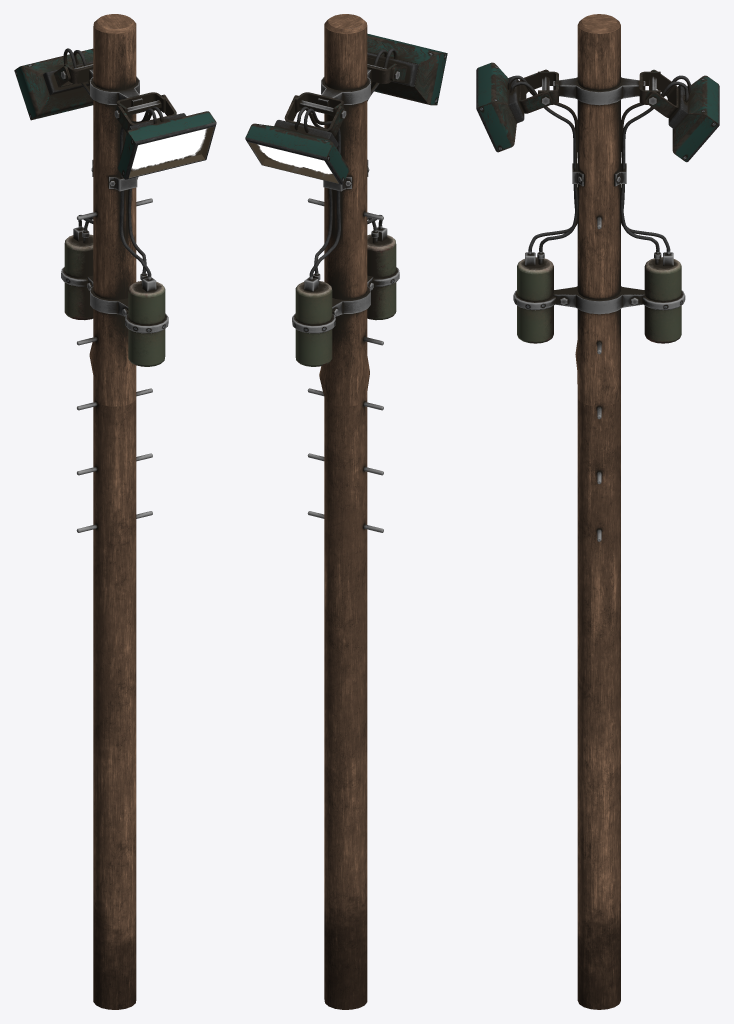
File: street_light_lamp_spotlight_-_10mb.glb
The picture shows the model from 3 angles, left to right: view 1: azimuth 30°, elevation 25°; view 2: azimuth 150°, elevation 25°; view 3: azimuth 270°, elevation 25°; orthographic projection.
Parts seen in each view (by area): view 1: Cylinder_7; view 2: Cylinder_7; view 3: Cylinder_7.
Boxes of the visible parts, x1=… form: Cylinder_7: x1=14, y1=14, x2=216, y2=1009; Cylinder_7: x1=245, y1=14, x2=447, y2=1009; Cylinder_7: x1=476, y1=14, x2=719, y2=1009.
Bounding box in the file's own units: 0.4365 × 5 × 1.13.
Materials: 1 (1 with a texture image).
